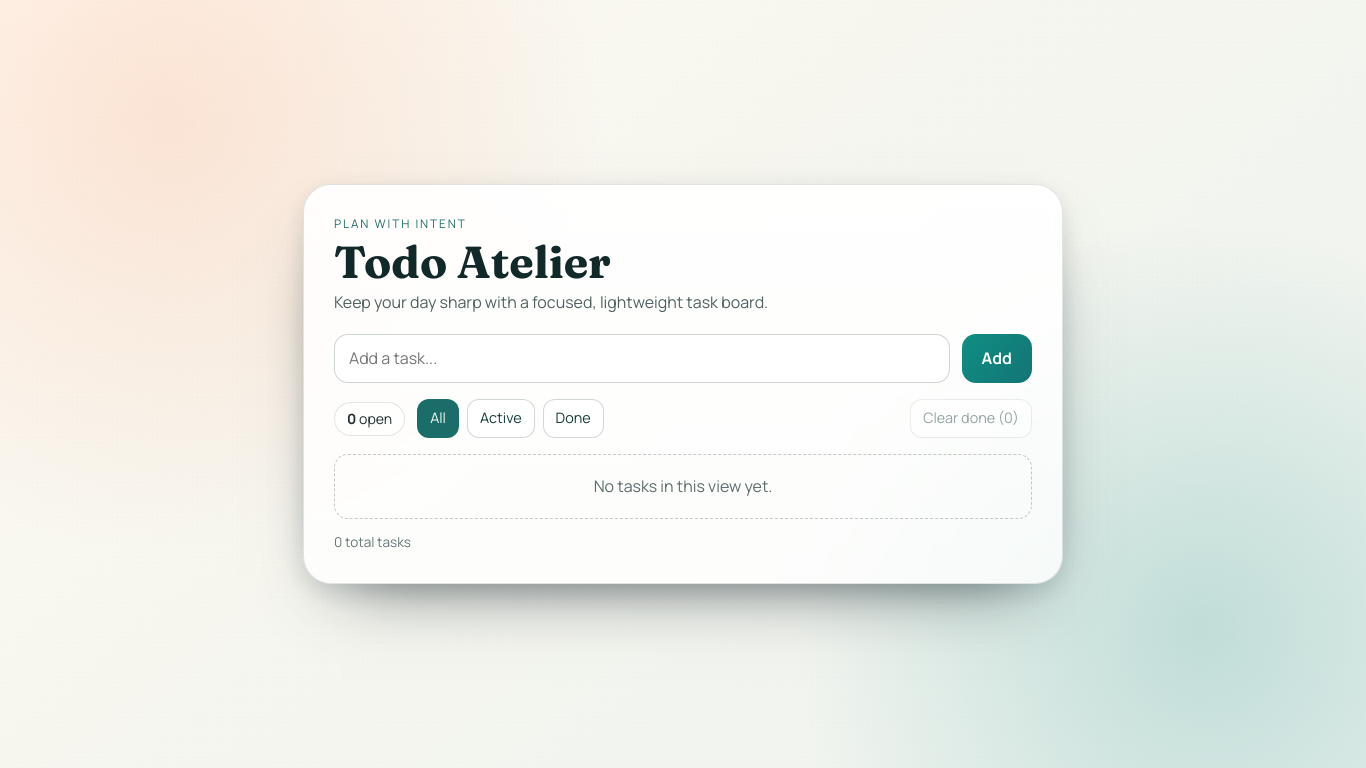
Test: App › trims whitespace when adding todos
Step 1. Type "  Trimmed task  " into the field with placeholder "Add a task..." → point(642, 359), box [334, 334, 950, 383]
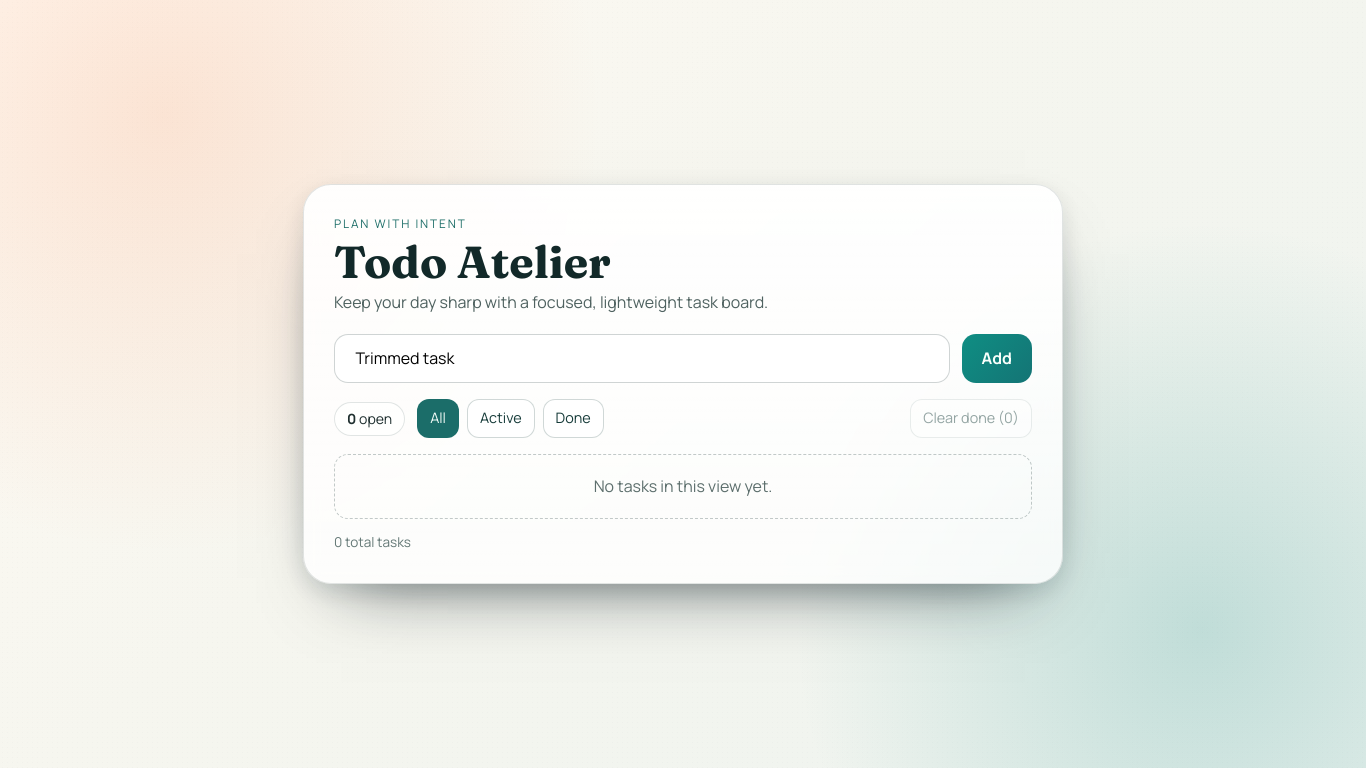
Step 2. Click the button "Add" → point(997, 359), box [962, 334, 1032, 383]
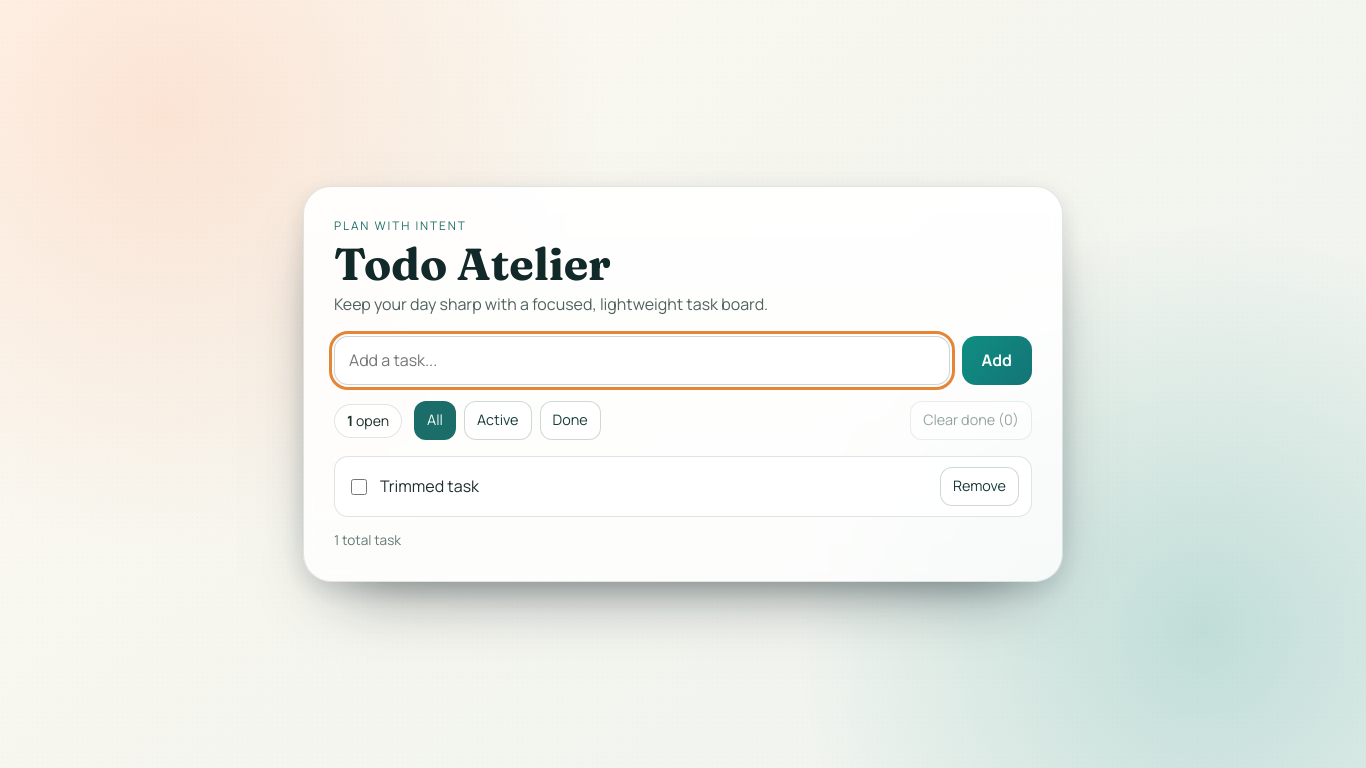
Expected: the text "Trimmed task" is shown, [380, 475, 479, 498]
